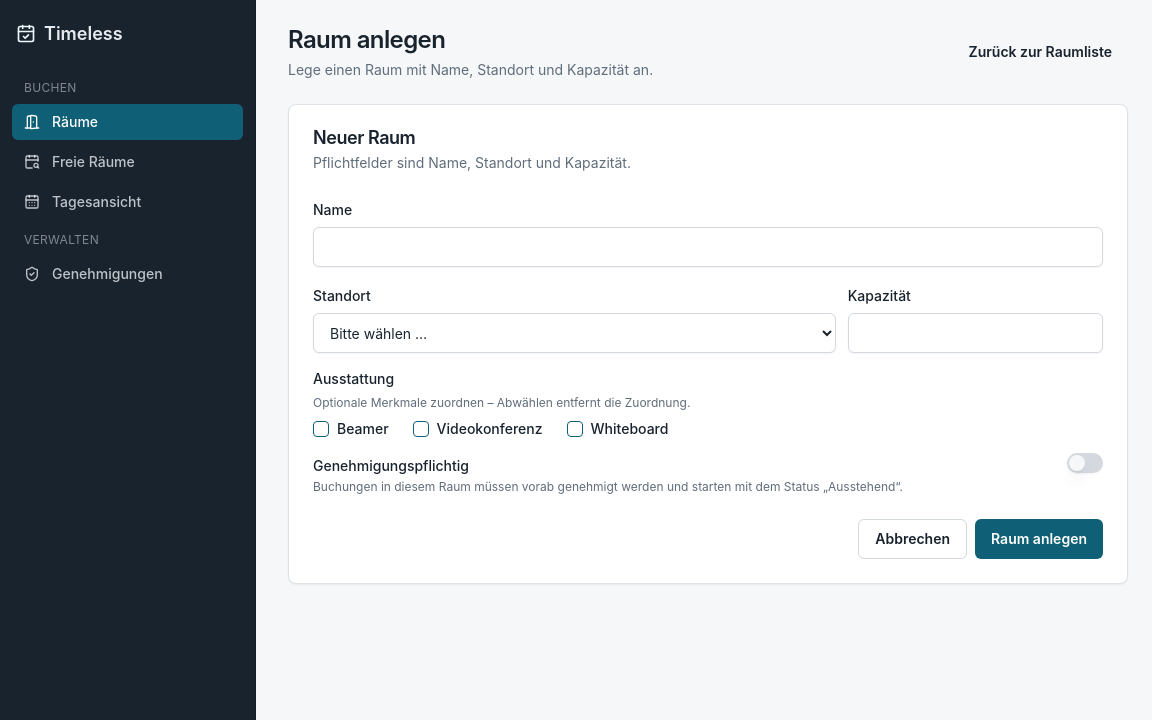
Test: RoomForm – Genehmigungspflicht-Schalter › zeigt einen Server-Fehler beim Speichern im etablierten Alert und erhält den Schalter-Zustand
This screenshot has width=1152, height=720.
expect the form with test id "room-form" is shown: met, box x1=313 y1=197 x2=1103 y2=559
In the field with test id "room-name": (708, 247) x1=313 y1=227 x2=1103 y2=267, type "Boardroom"
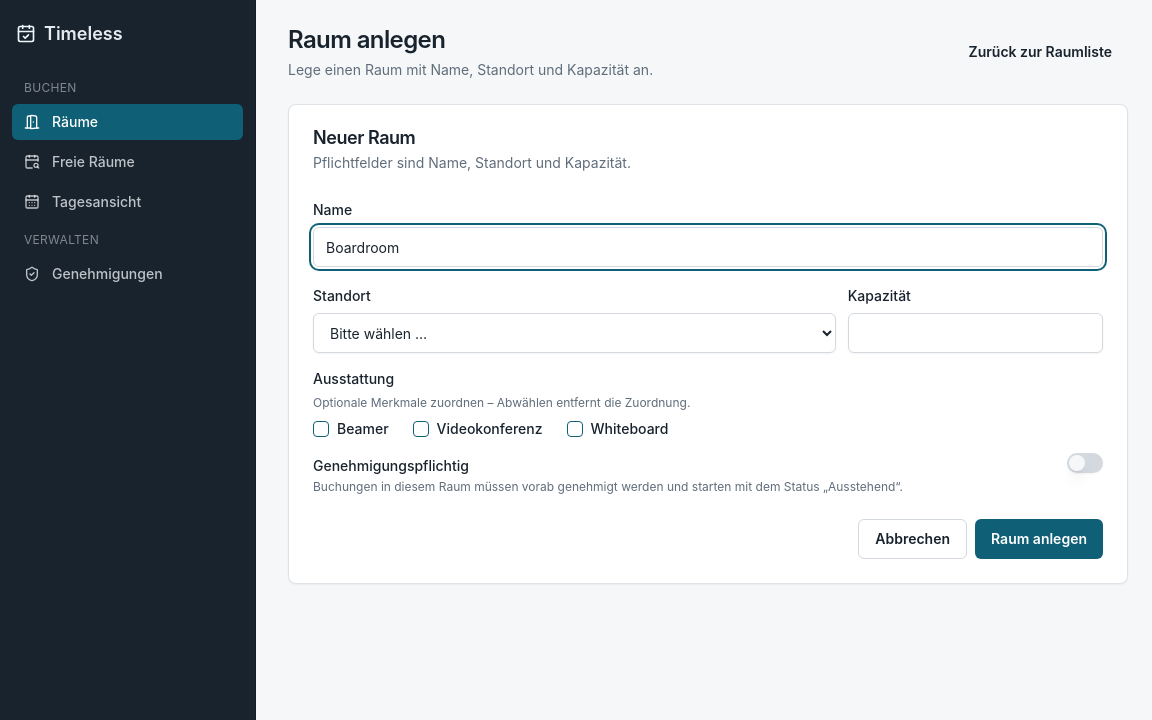
Select "Werkhaus" in the dropdown with test id "room-location": (574, 333) x1=313 y1=313 x2=836 y2=353
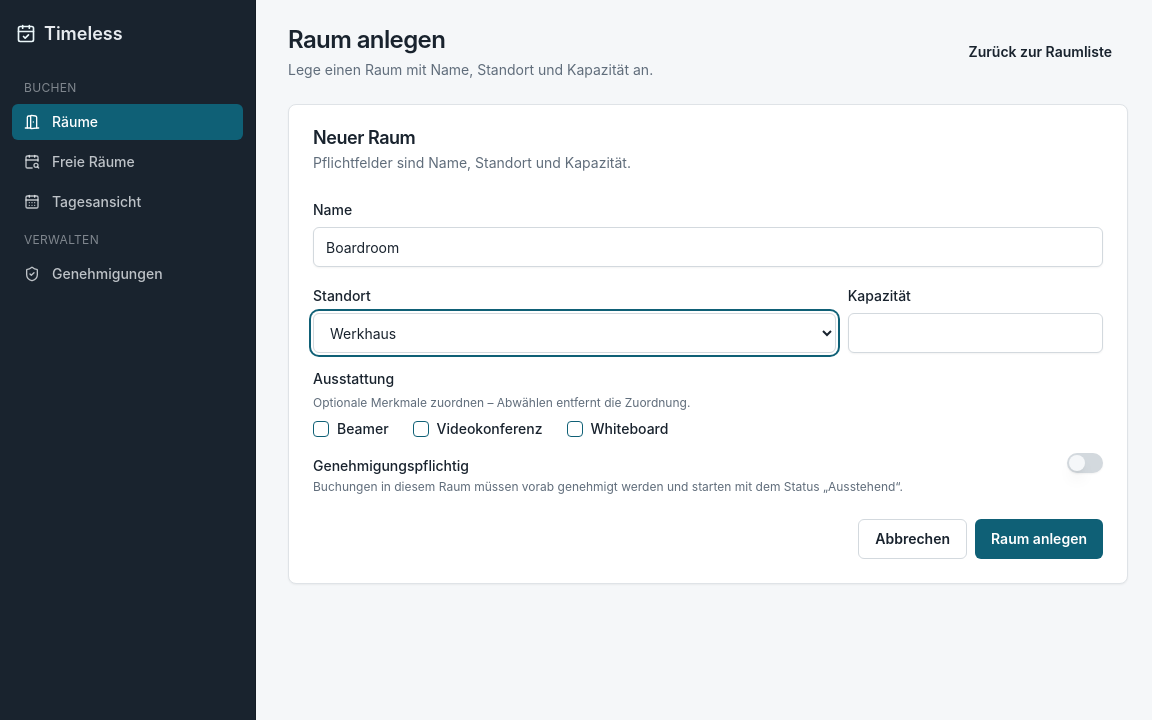
In the number field with test id "room-capacity": (975, 333) x1=848 y1=313 x2=1103 y2=353, type "8"
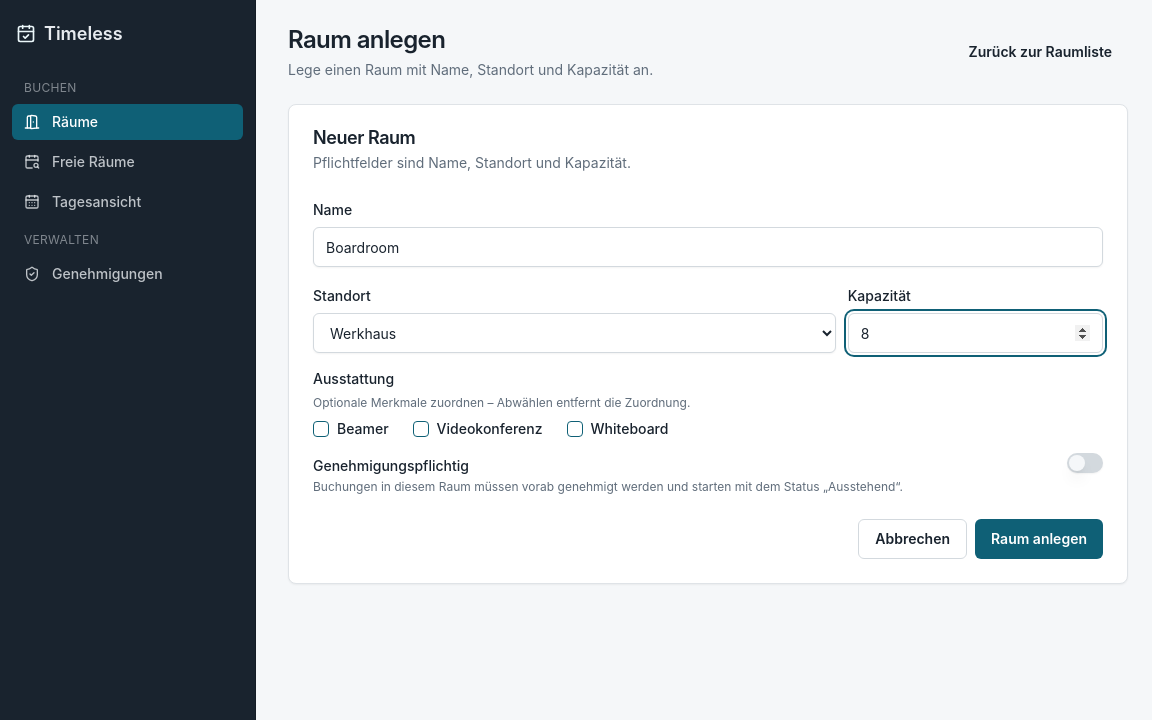
Click the switch with test id "room-requires-approval": (1085, 463) x1=1067 y1=453 x2=1103 y2=473
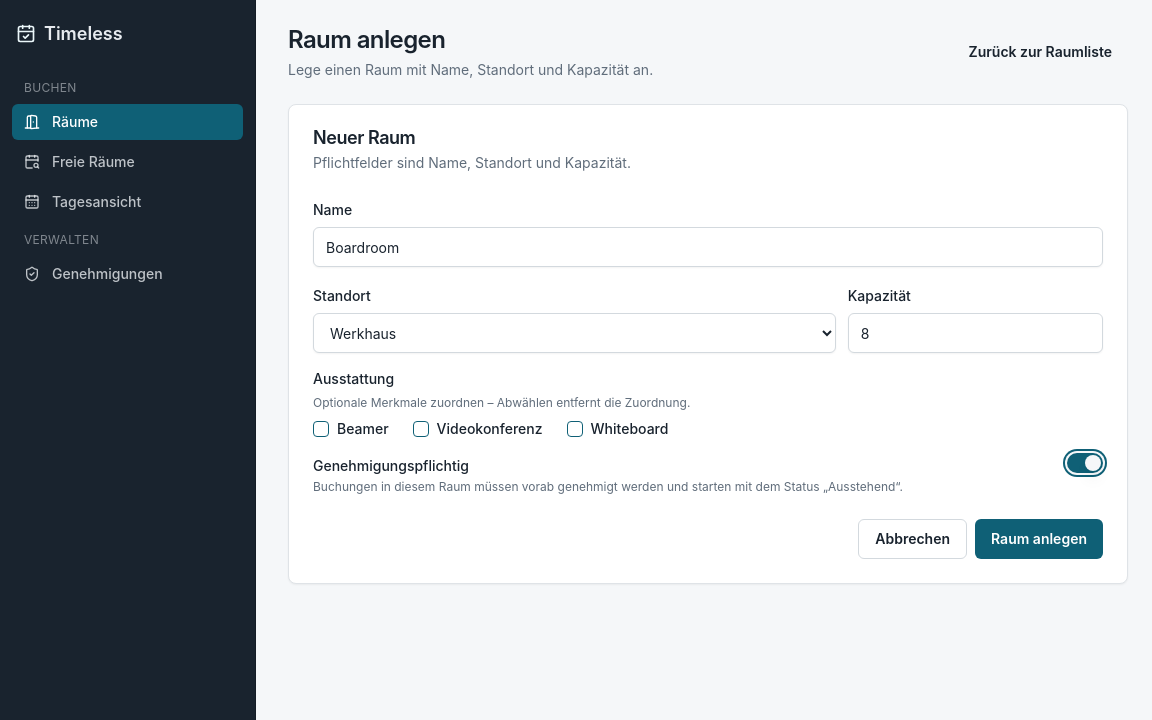
Click the button with test id "room-submit": (1039, 539) x1=975 y1=519 x2=1103 y2=559
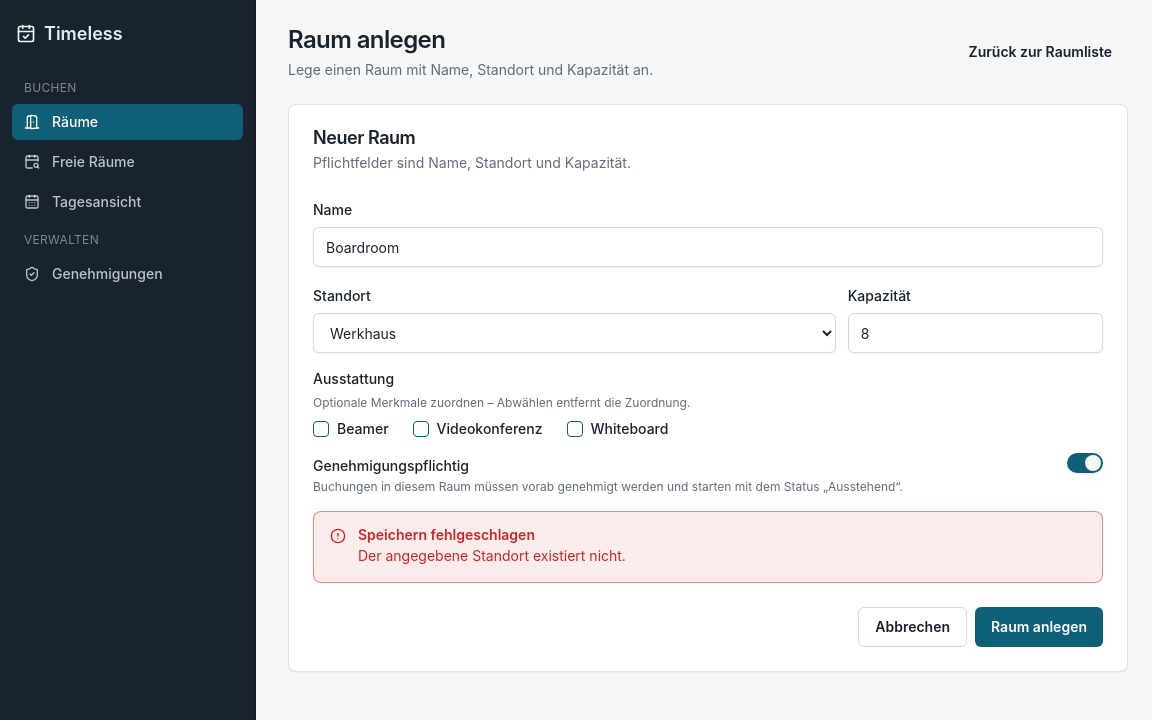
expect the button with test id "room-submit" is enabled: met, box x1=975 y1=607 x2=1103 y2=647
expect the message with test id "room-save-error" shows "Speichern fehlgeschlagen": met, box x1=358 y1=526 x2=535 y2=543
